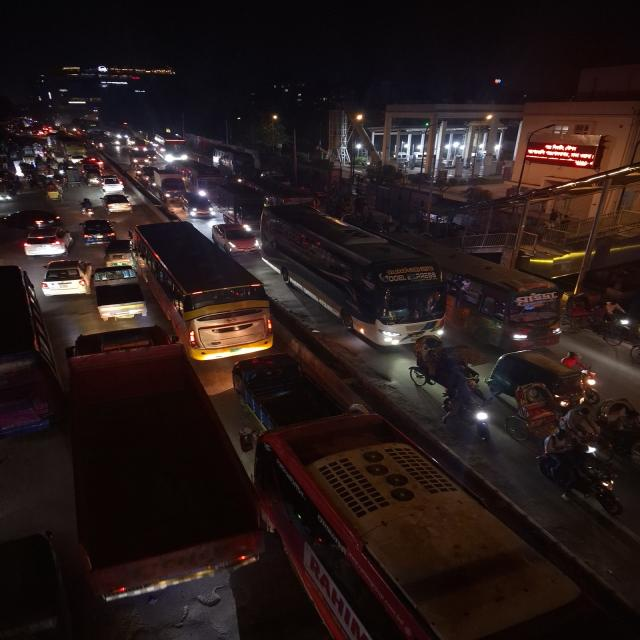bus: (259, 427, 562, 640), (262, 204, 450, 344), (134, 219, 278, 363), (0, 264, 66, 448), (454, 252, 564, 346), (188, 162, 222, 197), (51, 135, 88, 163), (155, 134, 188, 162)
car: (37, 258, 93, 300), (211, 222, 261, 256), (20, 227, 74, 257), (1, 207, 66, 231), (174, 193, 216, 220), (78, 218, 117, 245), (99, 192, 135, 214), (98, 175, 126, 193), (129, 150, 151, 166)
cng: (0, 529, 88, 640), (103, 239, 136, 266)
motorcycle: (536, 440, 626, 518), (563, 348, 600, 392), (77, 196, 95, 218), (0, 184, 16, 204)
pickup_van: (61, 335, 250, 598), (220, 358, 346, 424), (92, 265, 150, 324)
rickshaw: (407, 336, 495, 446), (502, 381, 572, 446), (562, 291, 628, 349), (596, 395, 640, 472), (43, 186, 65, 203)
truck: (211, 184, 264, 230), (154, 172, 187, 200)
